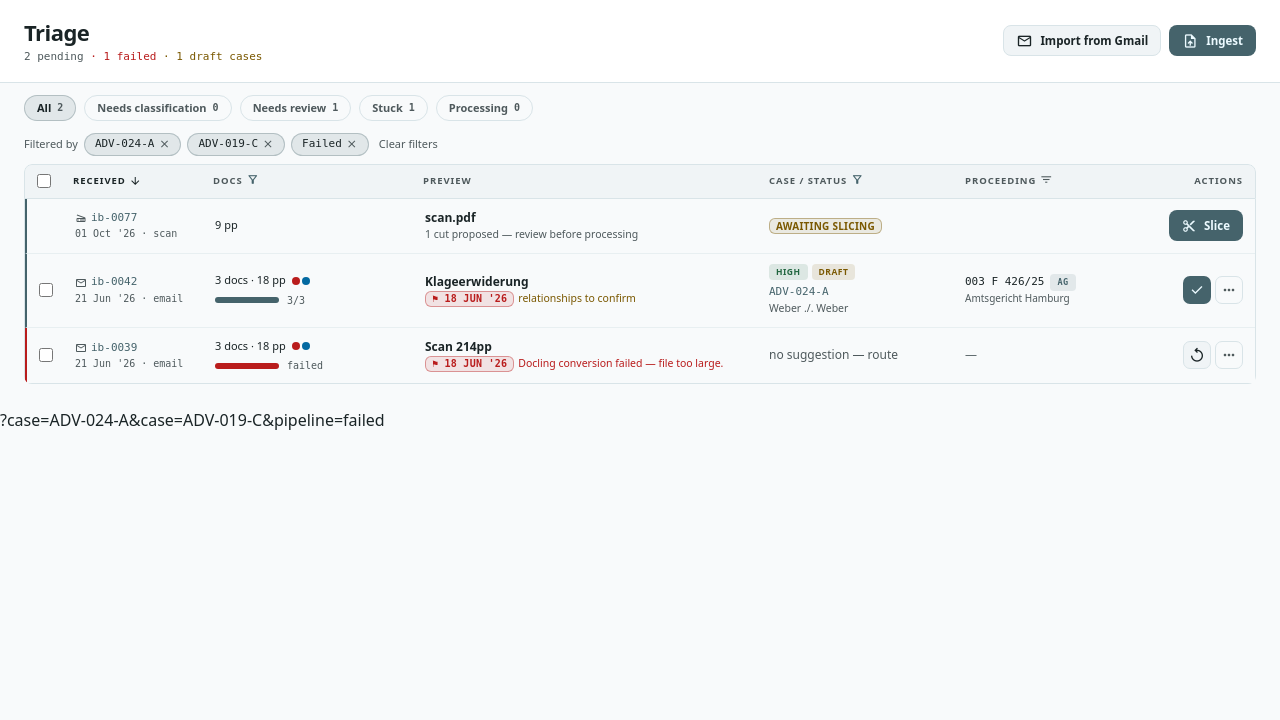
it: opening and closing Ingest keeps the filters
The width and height of the screenshot is (1280, 720).
Expected: the text "Klageerwiderung" is shown, [425,273,528,290]
Click the button "Ingest": [1213, 41] box [1169,25,1256,56]
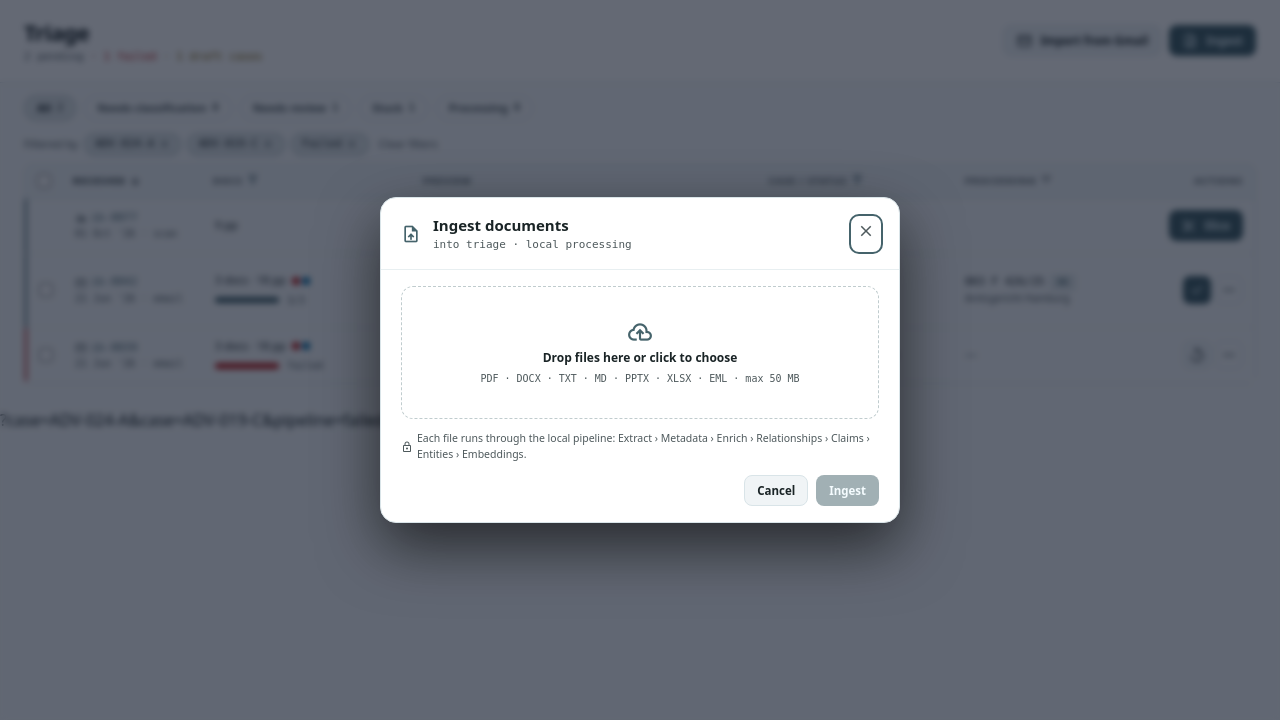
Now the text with test id "search" shows "upload=1", box [0,409,467,431]
Press Escape
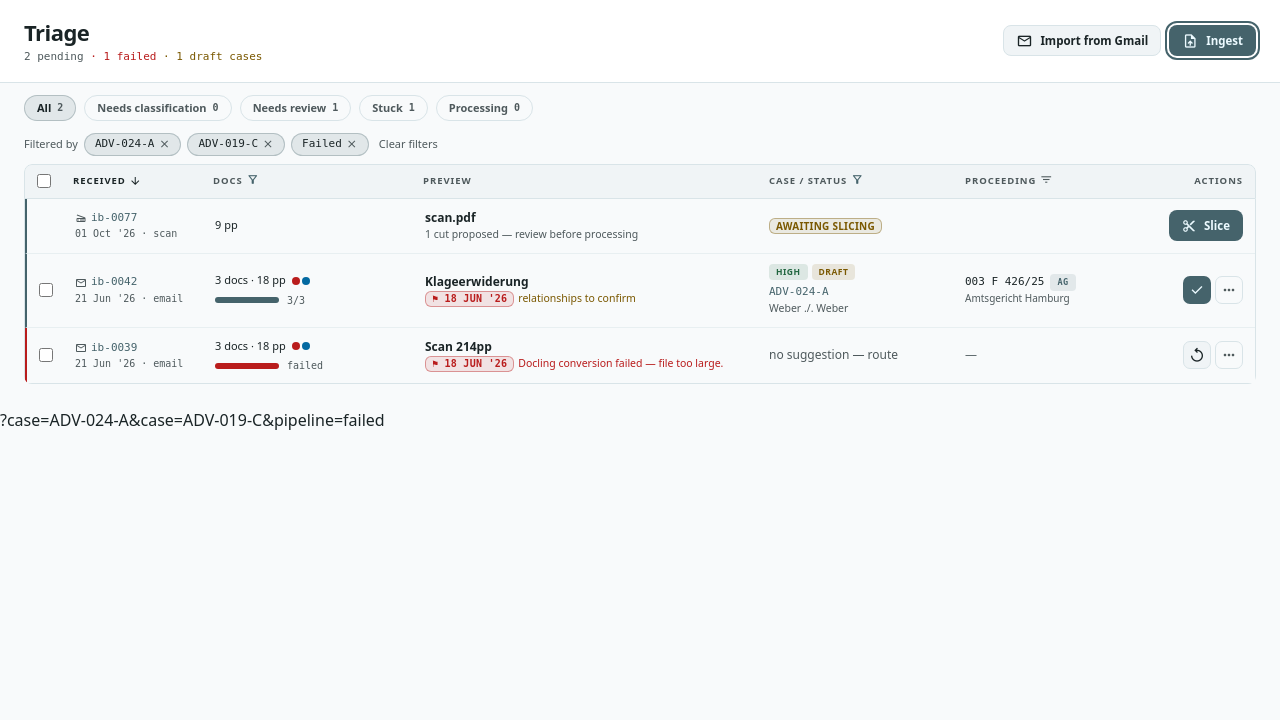
Expected: the text with test id "search" shows "case=ADV-024-A&case=ADV-019-C&pipeline=failed", [0,409,385,431]
Now the text with test id "search" no longer shows "upload=", box [0,409,385,431]
